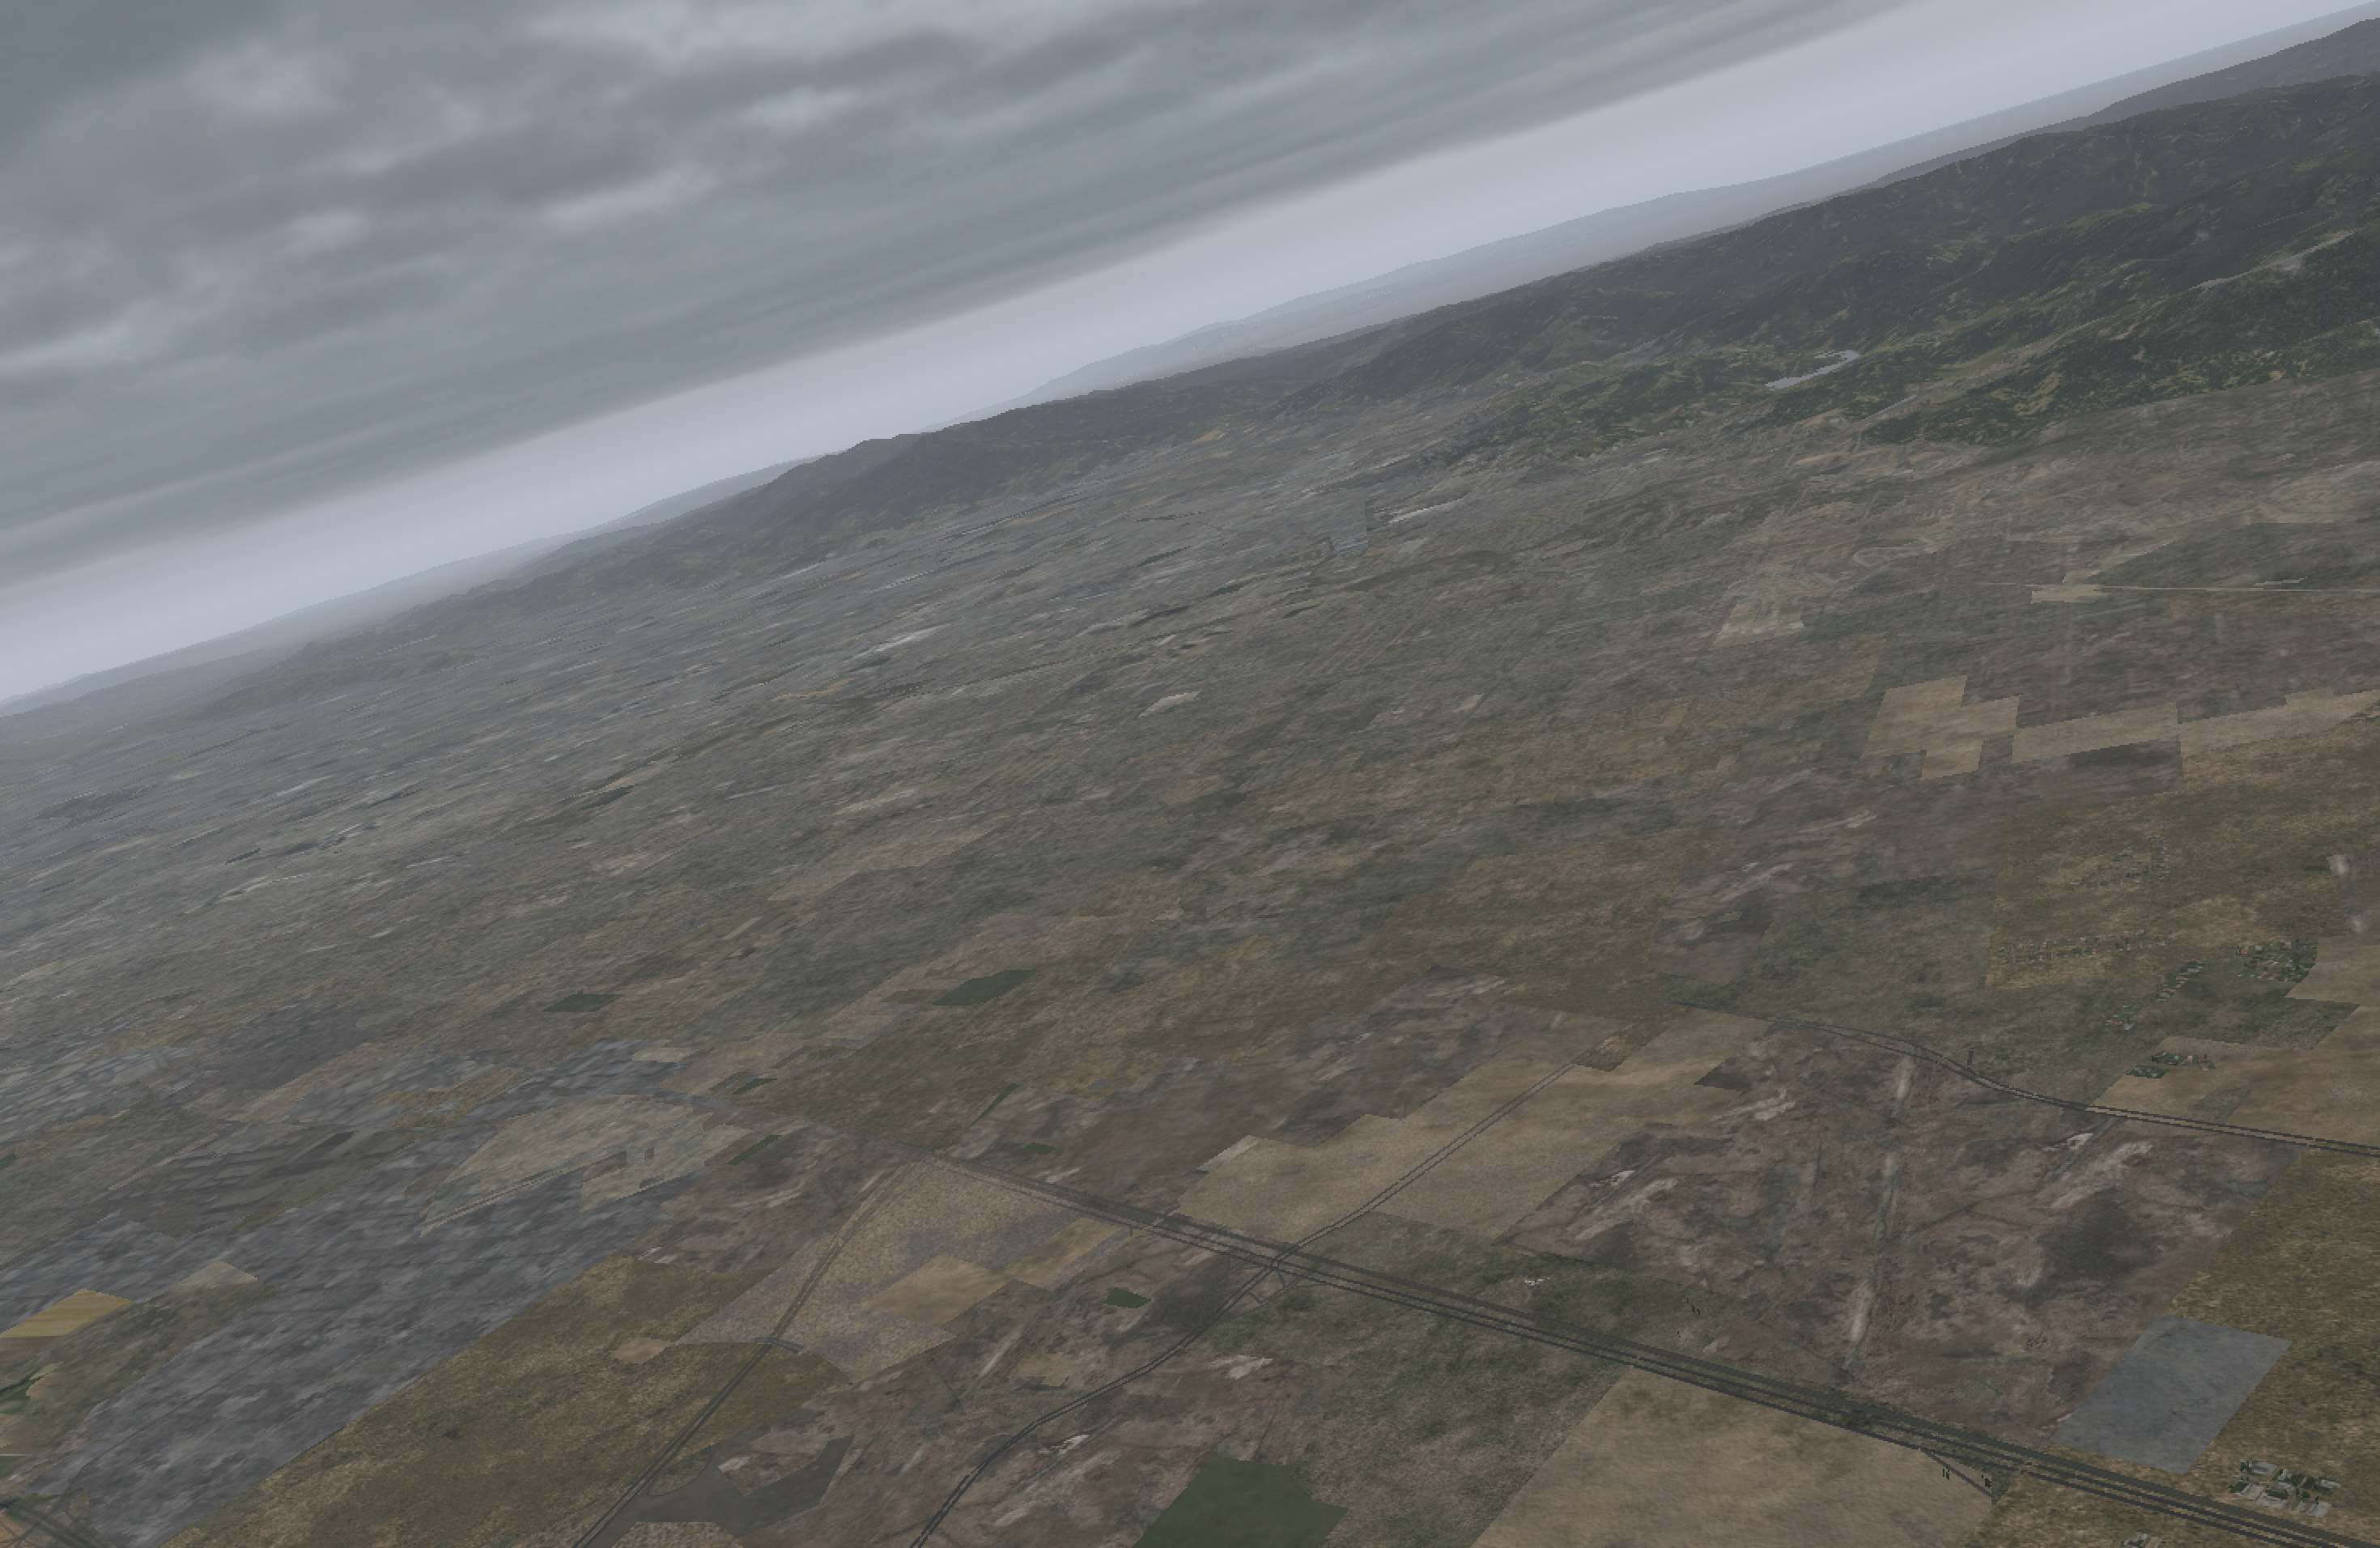aircraft: (1523, 1279, 1547, 1288)
